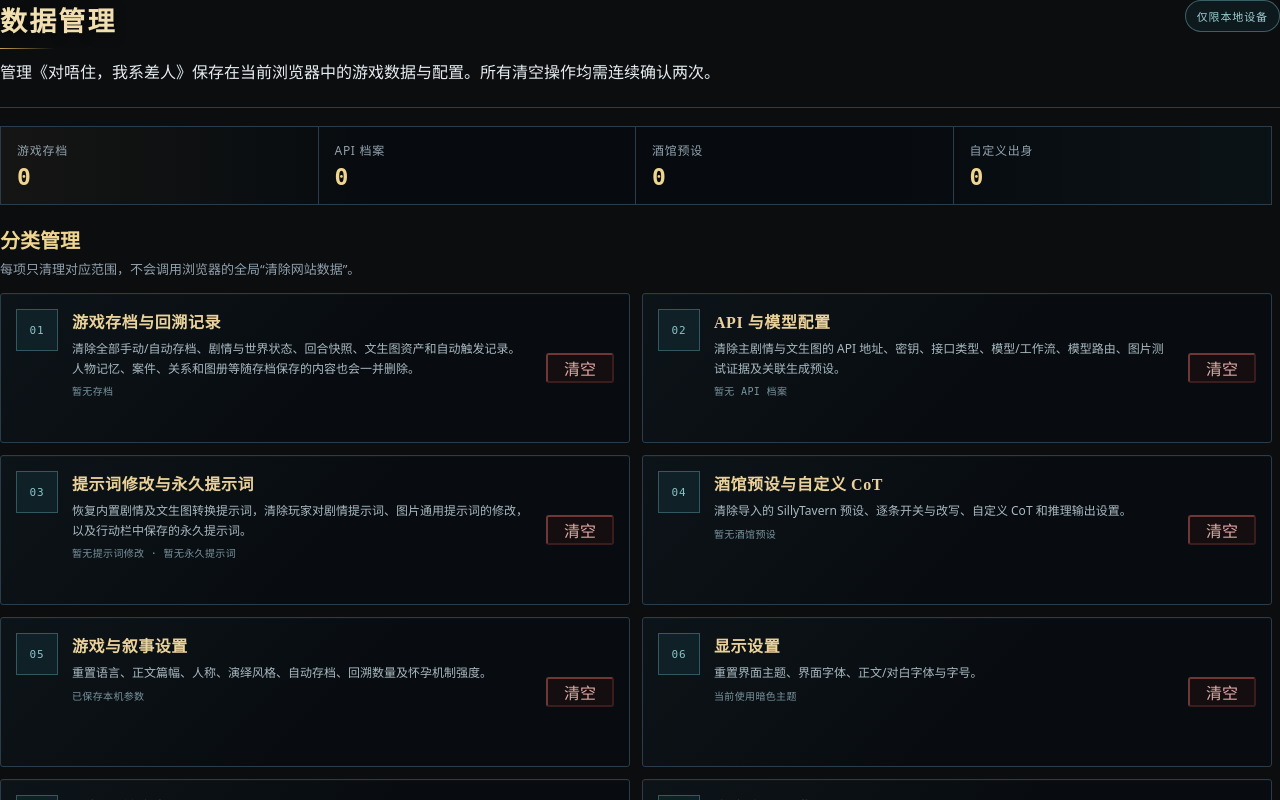
Test: DataManagementPanel › requires two explicit confirmations before clearing one data category
Expected: the list item "API 与模型配置" is shown, 642,293 -> 1272,443
Click the 2nd button "清空" at (1222, 368), box 1188,353 -> 1256,383
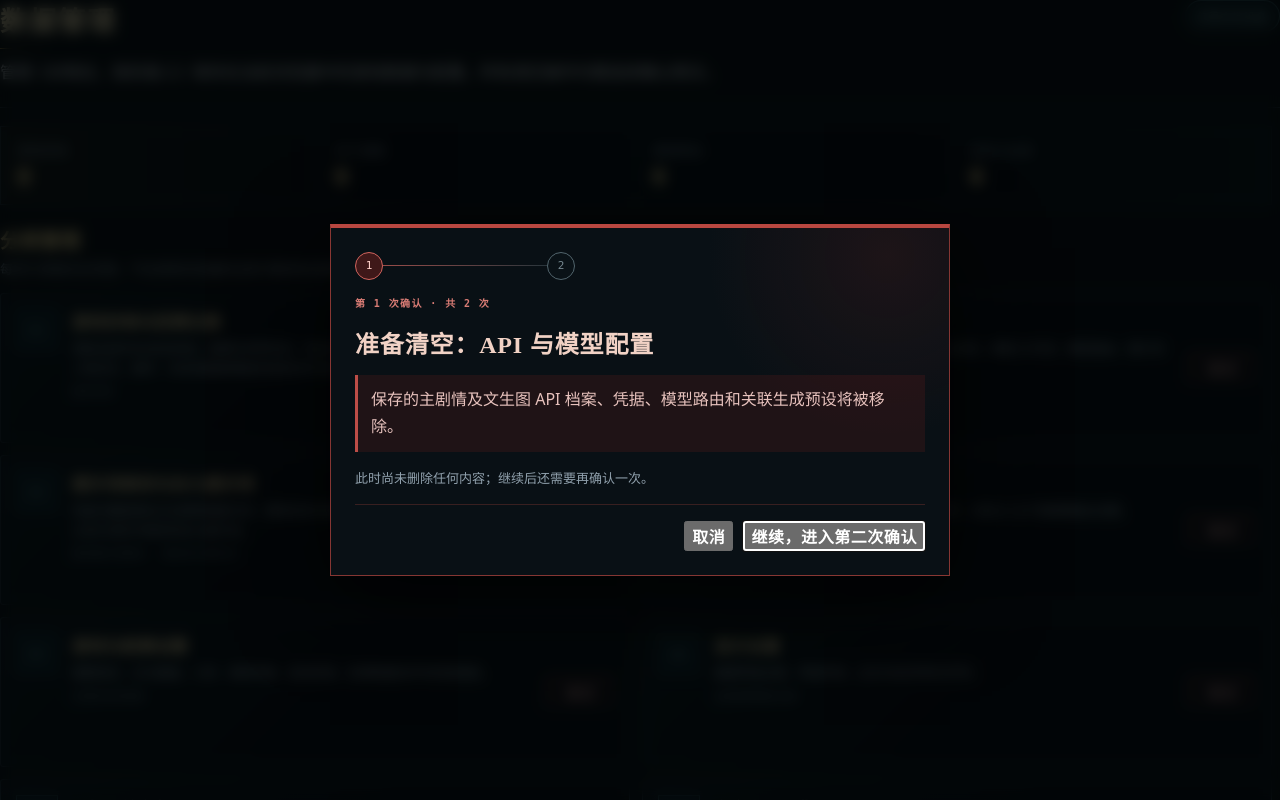
Expected: the text "第 1 次确认 · 共 2 次" is shown, 355,298 -> 490,309
Click the button "继续，进入第二次确认" at (834, 536), box 743,521 -> 925,551
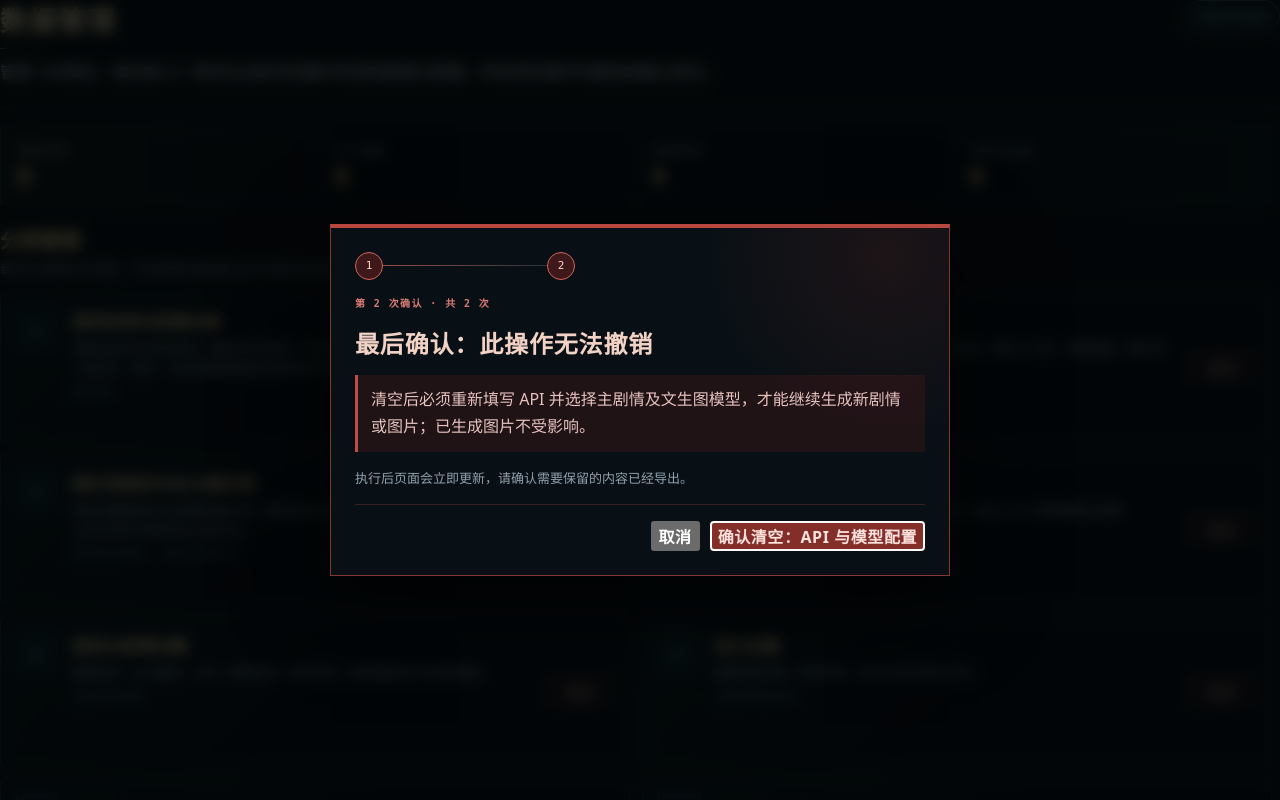
Expected: the text "第 2 次确认 · 共 2 次" is shown, 355,298 -> 490,309
Click the button "确认清空：API 与模型配置" at (817, 536), box 710,521 -> 925,551
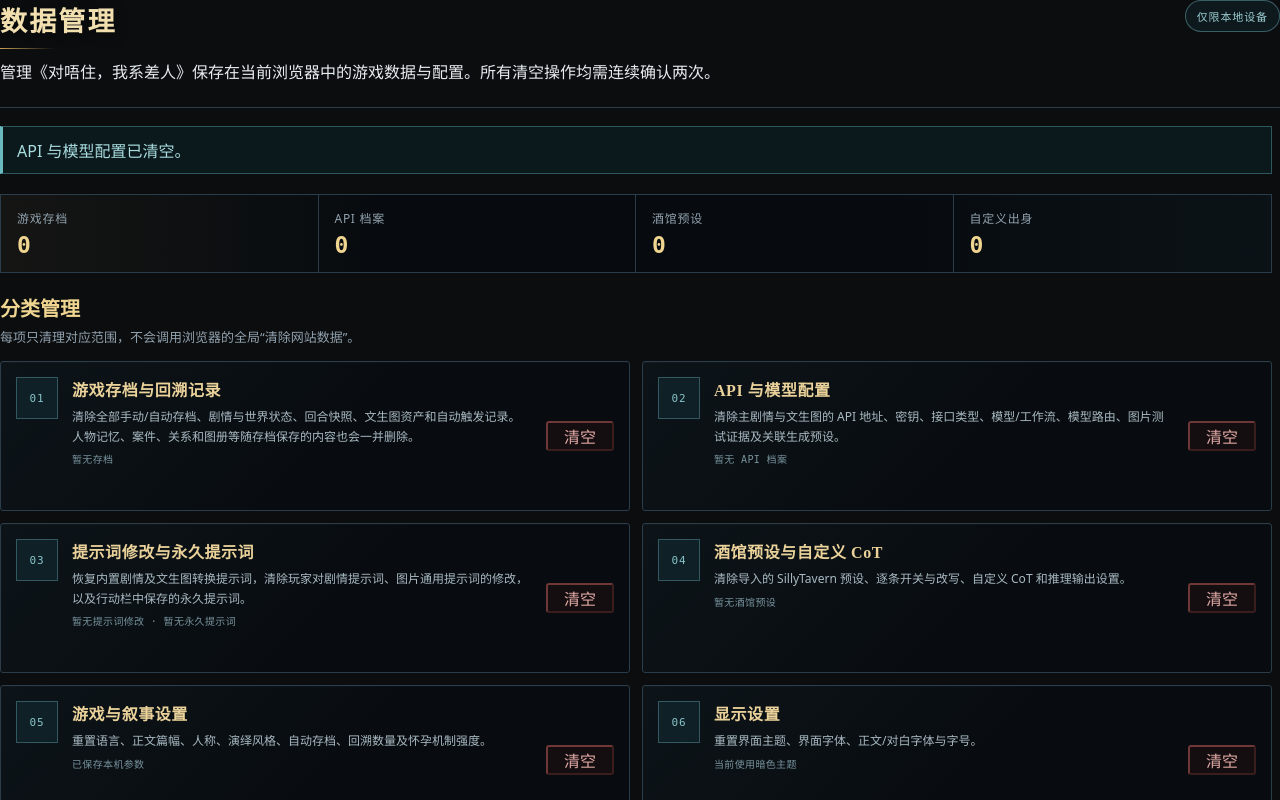
Expected: the dialog is gone
Expected: the message reads "API 与模型配置已清空。", 17,140 -> 190,162
